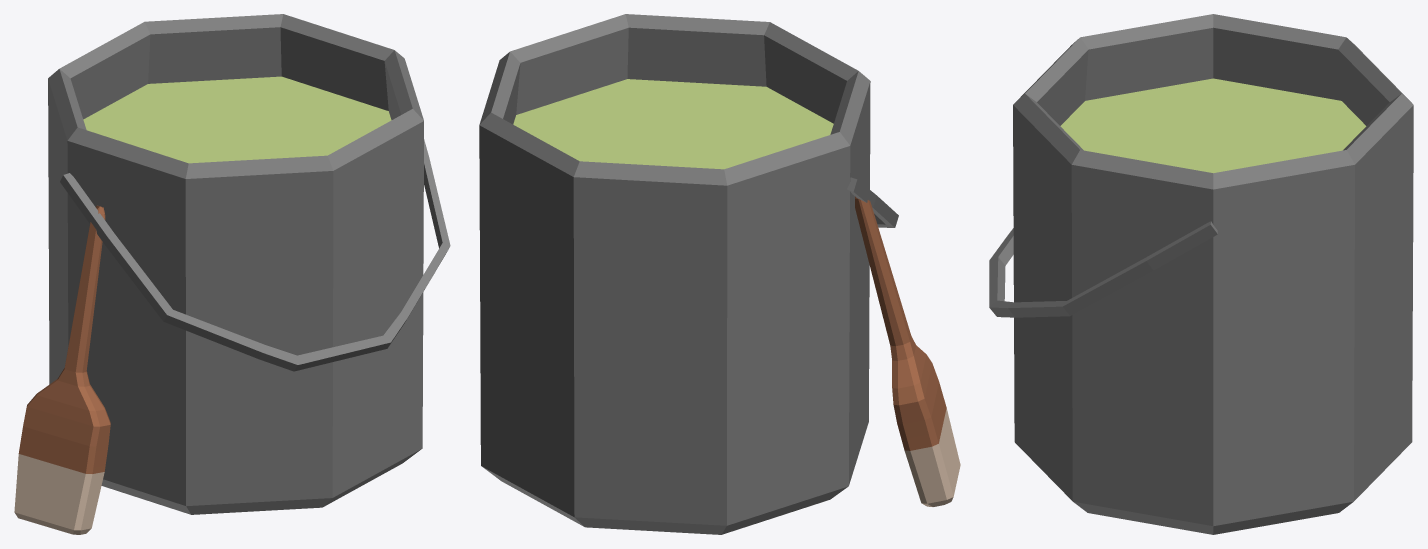
The model's file is PaintBucket.fbx.
The picture shows the model from 3 angles, left to right: view 1: azimuth 30°, elevation 25°; view 2: azimuth 150°, elevation 25°; view 3: azimuth 270°, elevation 25°; orthographic projection. The views are drawn at different scales.
Visible parts, largest first — view 1: PaintBucket; view 2: PaintBucket; view 3: PaintBucket.
Boxes of the visible parts, left/top/right/bottom form: PaintBucket: left=14, top=14, right=450, bottom=534; PaintBucket: left=479, top=14, right=960, bottom=534; PaintBucket: left=989, top=14, right=1413, bottom=534.
Bounding box in the file's own units: 0.342 × 0.2803 × 0.2923.
1 material, 1 textured.
